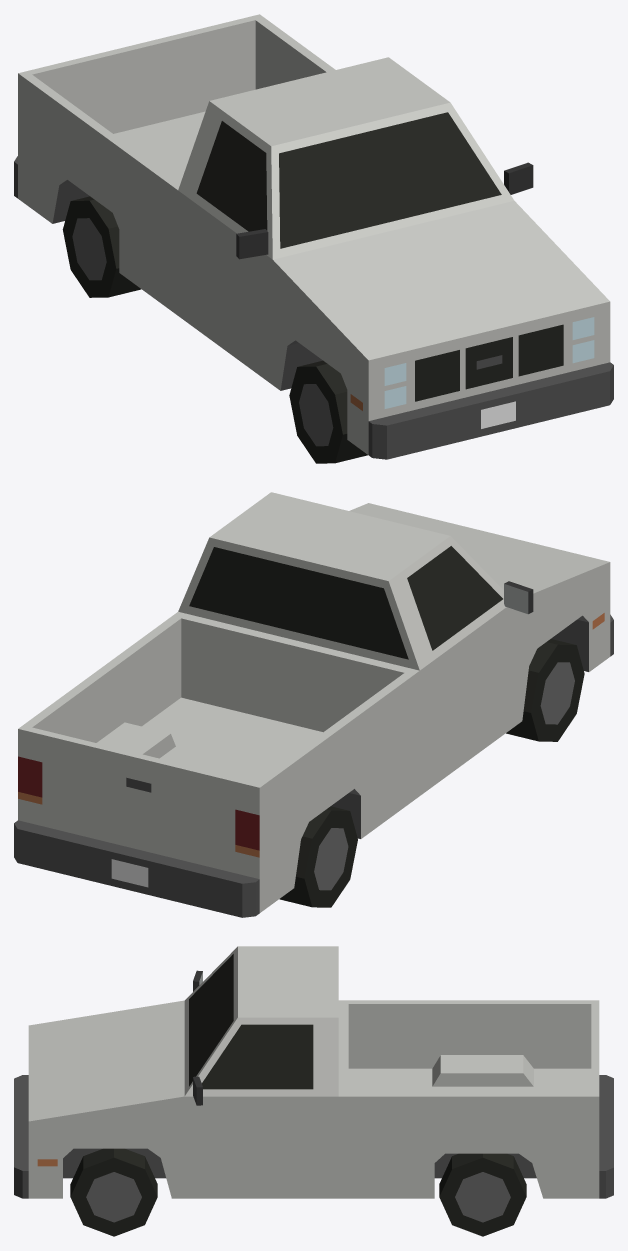
The model's file is Veh_Pickup_02_White.obj.
3 renders of one model, top to bottom at view 1: azimuth 30°, elevation 25°; view 2: azimuth 150°, elevation 25°; view 3: azimuth 270°, elevation 25°, orthographic. The views are drawn at different scales.
Size of the model in its own units: 1.43 by 1.18 by 3.11.
